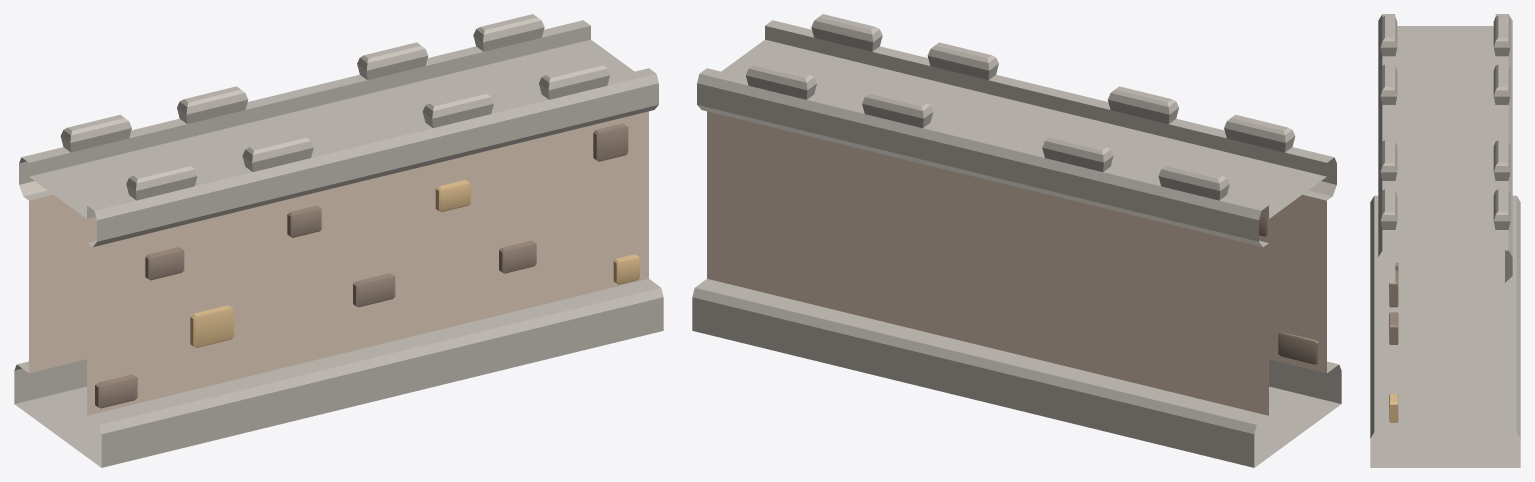
File: CastleWall.fbx
3 renders of one model, left to right at view 1: azimuth 30°, elevation 25°; view 2: azimuth 150°, elevation 25°; view 3: azimuth 270°, elevation 25°, orthographic. The views are drawn at different scales.
Visible parts, largest first — view 1: Cube.055; view 2: Cube.055; view 3: Cube.055.
Part boxes in pixels (<box>): Cube.055: <box>14,14,663,467</box>; Cube.055: <box>692,14,1341,467</box>; Cube.055: <box>1370,14,1520,467</box>.
Size of the model in its own units: 876 by 1508 by 3261.
